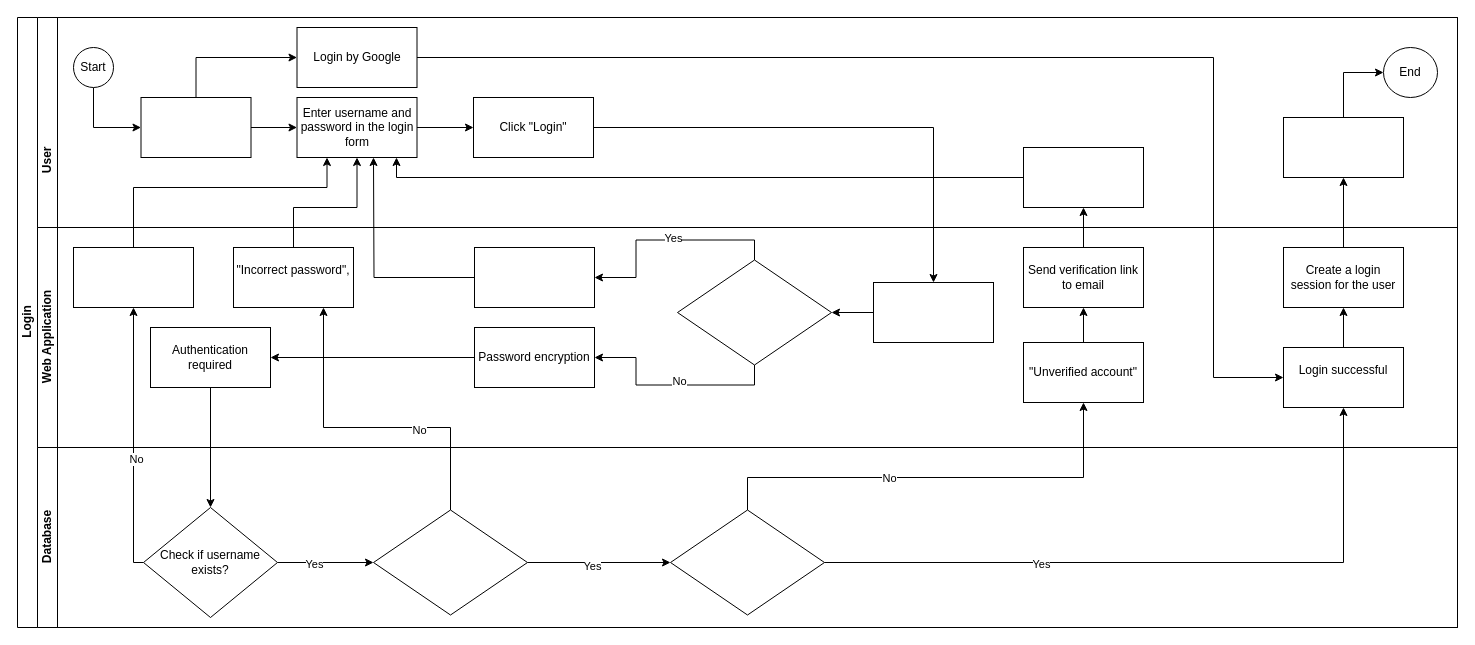
Image size: 1475x645. Some labels were removed from this diagram. The shapes that lost their labels are listed below. From the top down, each one's centre as x and y in pixels, then its label:
(x=195, y=127): Open login page
(x=1343, y=147): Go to Home screen
(x=1083, y=177): Verify account
(x=133, y=277): "Account does not exist"
(x=534, y=277): "Please enter complete information"
(x=754, y=312): Check if the fields are empty?
(x=933, y=312): Receive login request
(x=450, y=562): Compare encrypted passwords, do they match?
(x=747, y=562): Is the account verified?
